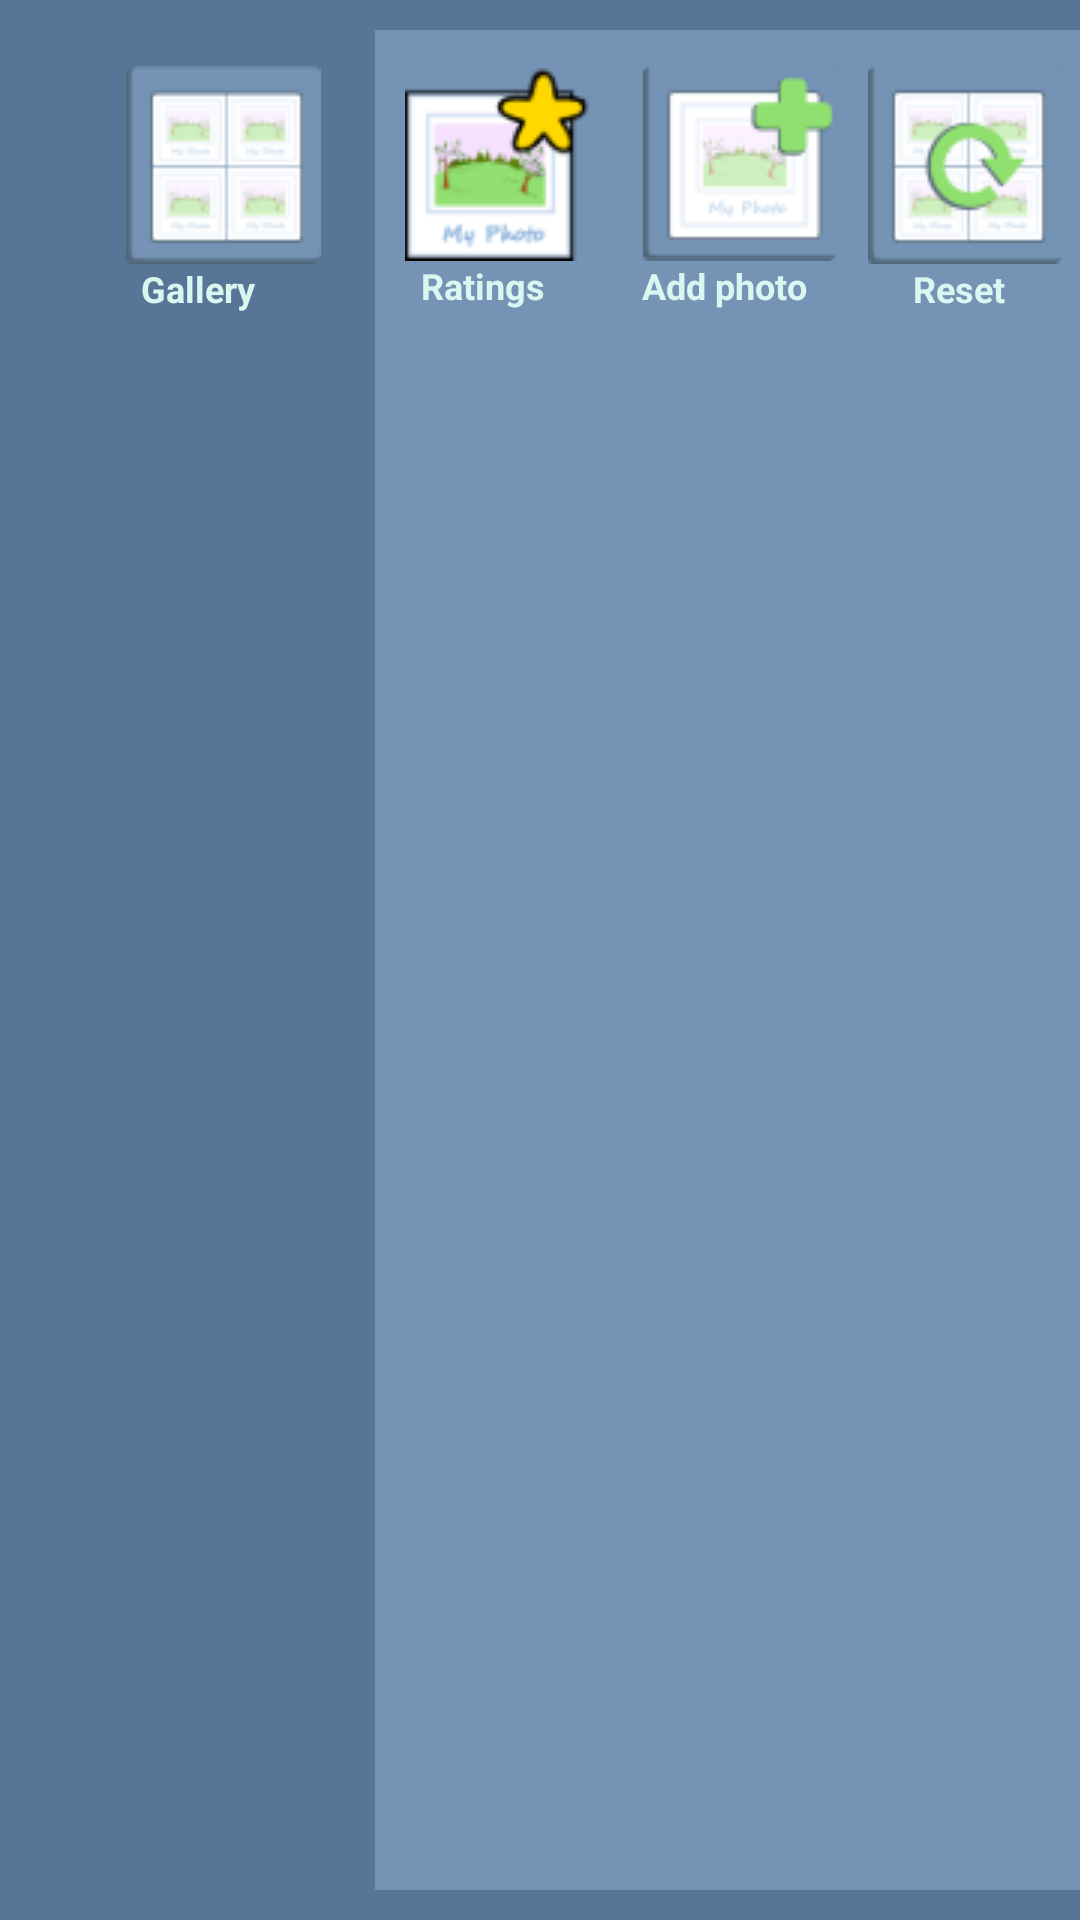

Icons on this 1080x1920 Android screen, each with the point to tap as (x,y):
gridvbutton: (223,166)
